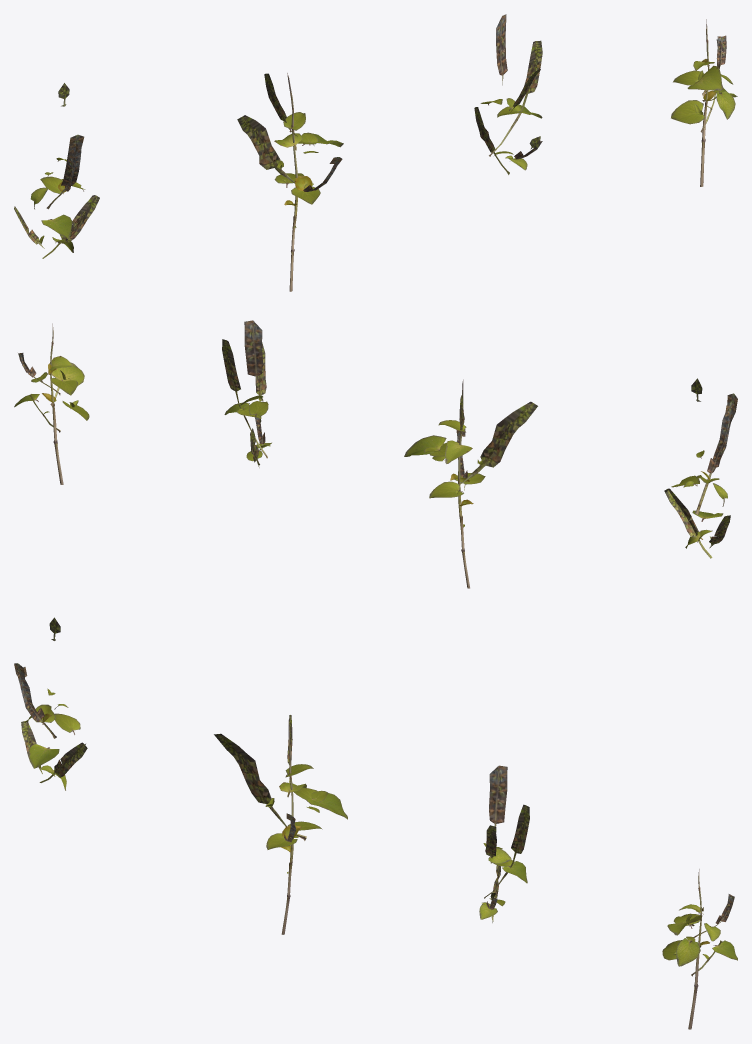
File: kf_shrub_c.glb
The picture shows the model from 3 angles, top to bottom: view 1: azimuth 30°, elevation 25°; view 2: azimuth 150°, elevation 25°; view 3: azimuth 330°, elevation 25°; orthographic projection.
Parts seen in each view (by area): view 1: shrub_03_b, shrub_03_a, shrub_03_d, shrub_03_c; view 2: shrub_03_b, shrub_03_c, shrub_03_a, shrub_03_d; view 3: shrub_03_b, shrub_03_c, shrub_03_a, shrub_03_d.
Part boxes in pixels (left/top/right/bottom): shrub_03_b: left=237, top=73, right=343, bottom=291; shrub_03_a: left=14, top=83, right=99, bottom=258; shrub_03_d: left=671, top=19, right=737, bottom=186; shrub_03_c: left=474, top=14, right=542, bottom=174; shrub_03_b: left=404, top=379, right=537, bottom=588; shrub_03_c: left=222, top=320, right=271, bottom=467; shrub_03_a: left=664, top=378, right=737, bottom=558; shrub_03_d: left=14, top=323, right=89, bottom=484; shrub_03_b: left=214, top=715, right=347, bottom=934; shrub_03_c: left=479, top=765, right=529, bottom=922; shrub_03_a: left=14, top=617, right=87, bottom=790; shrub_03_d: left=662, top=869, right=737, bottom=1029.
Size of the model in its own units: 1.35 by 0.4764 by 0.1512.
Materials: 1 (1 with a texture image).
